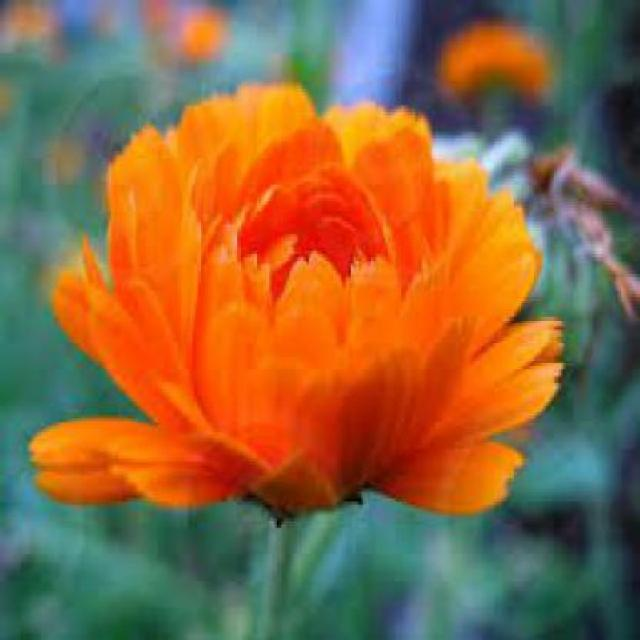Flower: (27, 79, 564, 518)
